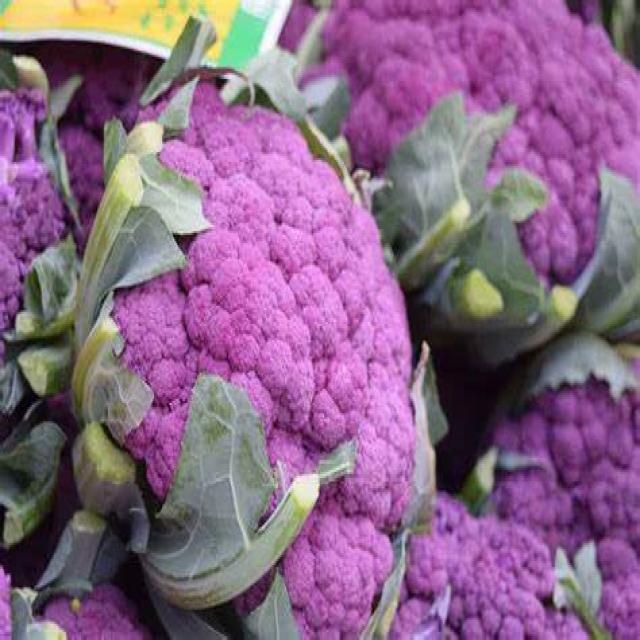Purple Broccoli: (87, 88, 417, 638), (332, 0, 639, 342), (420, 378, 640, 638), (0, 63, 97, 324)
